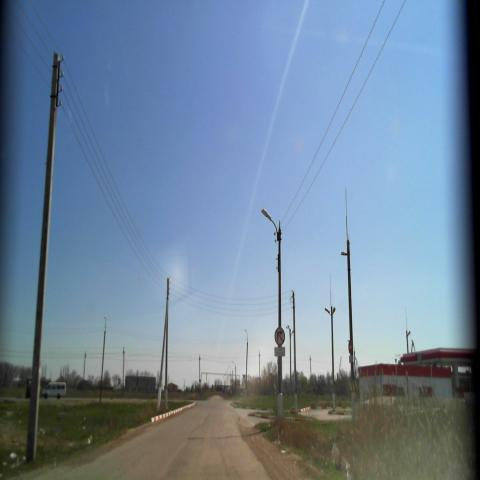3_18: (274, 326, 286, 347)
